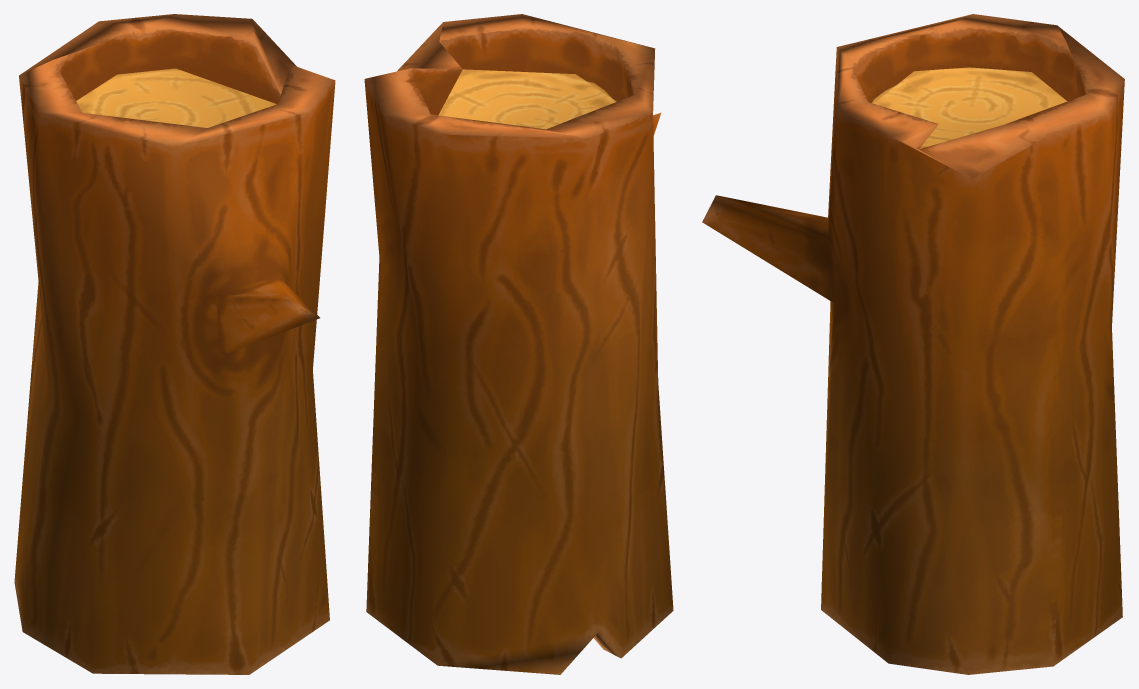
The model's file is log_LOD2.fbx.
3 renders of one model, left to right at view 1: azimuth 30°, elevation 25°; view 2: azimuth 150°, elevation 25°; view 3: azimuth 270°, elevation 25°, orthographic.
Parts seen in each view (by area): view 1: log_low; view 2: log_low; view 3: log_low.
Part boxes in pixels (x1,y1,x2,y2): log_low: (14,14,335,674); log_low: (364,14,673,674); log_low: (702,14,1124,674).
Size of the model in its own units: 196 by 376 by 267.
